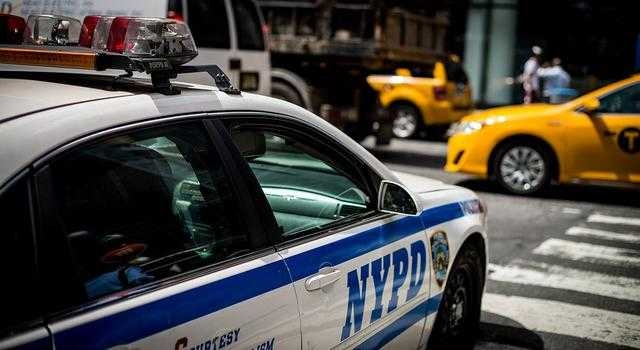Police Car: (7, 0, 498, 350)
